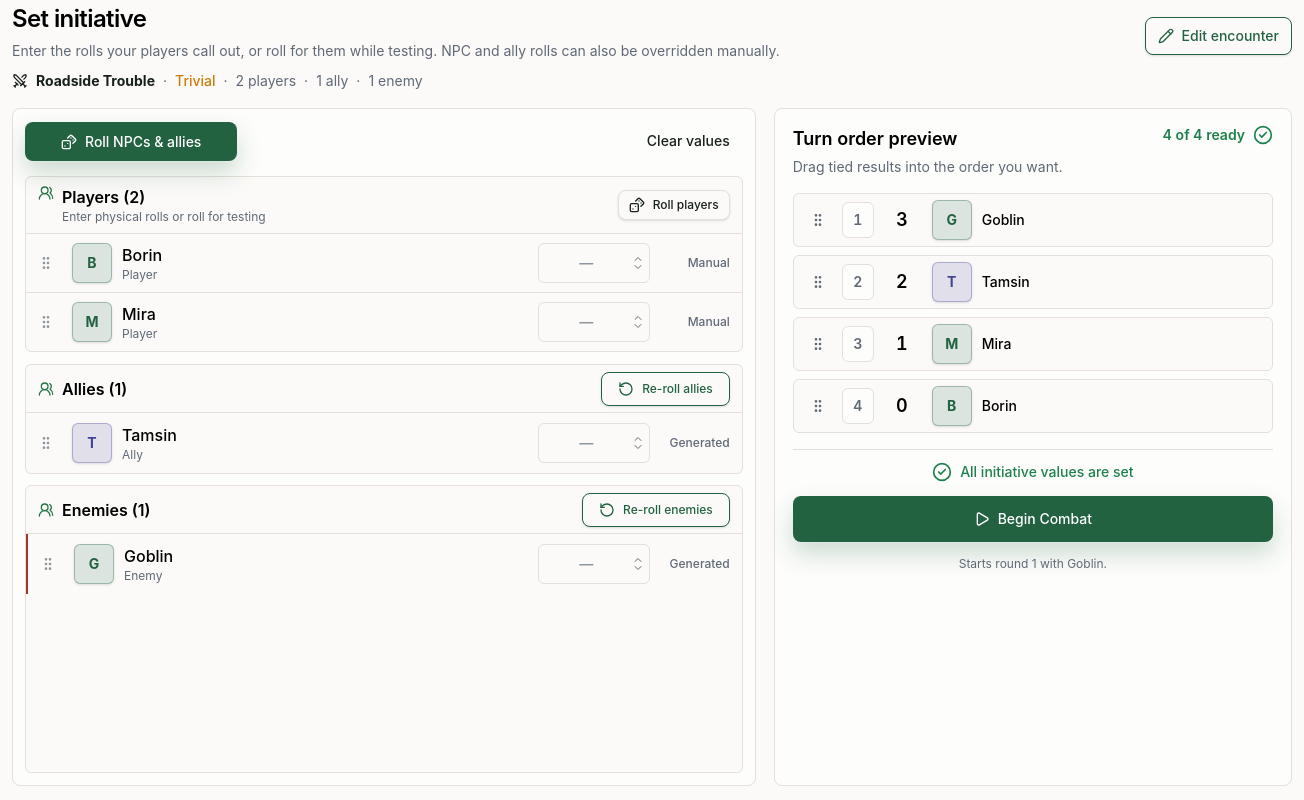
Test case: EncounterInitiativePage › clears initiative through the bulk operation
The image size is (1304, 800).
Expected: the heading "Set initiative" is shown, [12, 4, 146, 33]
Click the button "Clear values" at (688, 140), box [634, 122, 743, 160]
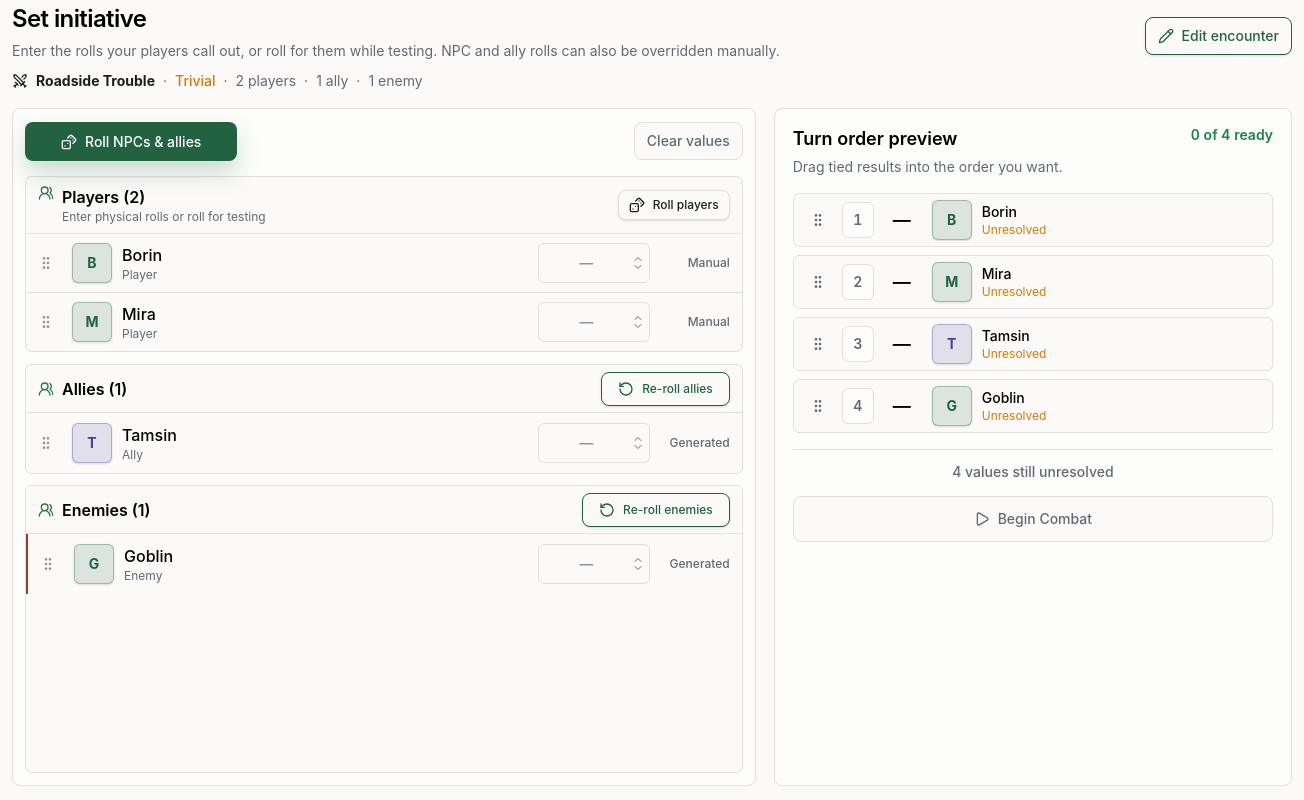
Result: the text "4 values still unresolved" is shown at [952, 463, 1114, 480]
Result: the button "Begin Combat" is disabled at [793, 496, 1273, 542]
